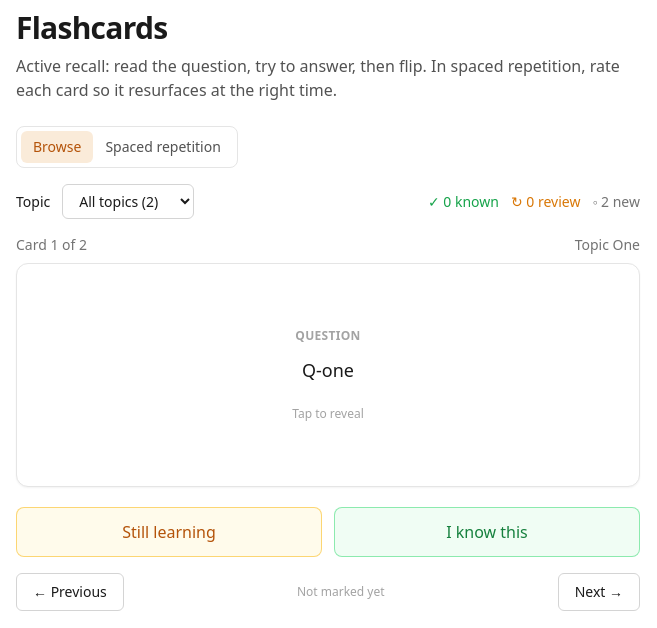
it: FlashcardDeck › switches to spaced-repetition mode and shows rating buttons
This screenshot has width=657, height=628.
Click the tab "Spaced repetition": (163,147) [93, 131, 233, 163]
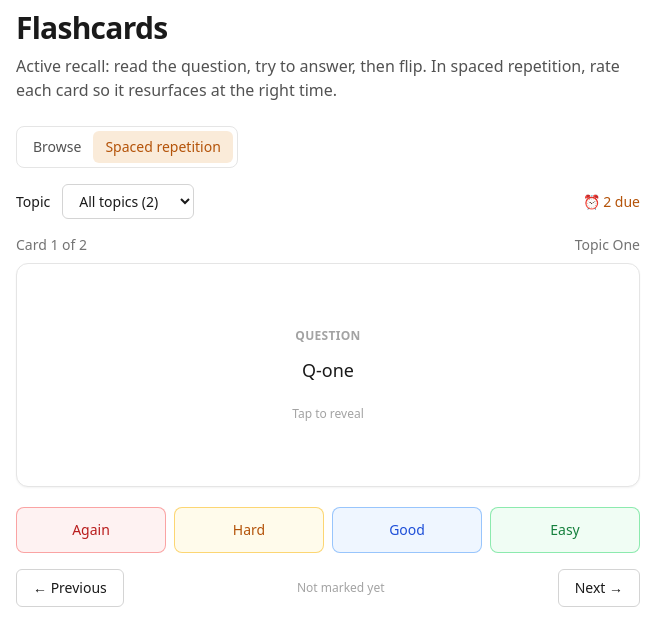
Now the button "Again" is shown, box [16, 507, 166, 553]
Now the button "Good" is shown, box [332, 507, 482, 553]
Now the text "⏰ 2 due" is shown, box [582, 192, 640, 212]
